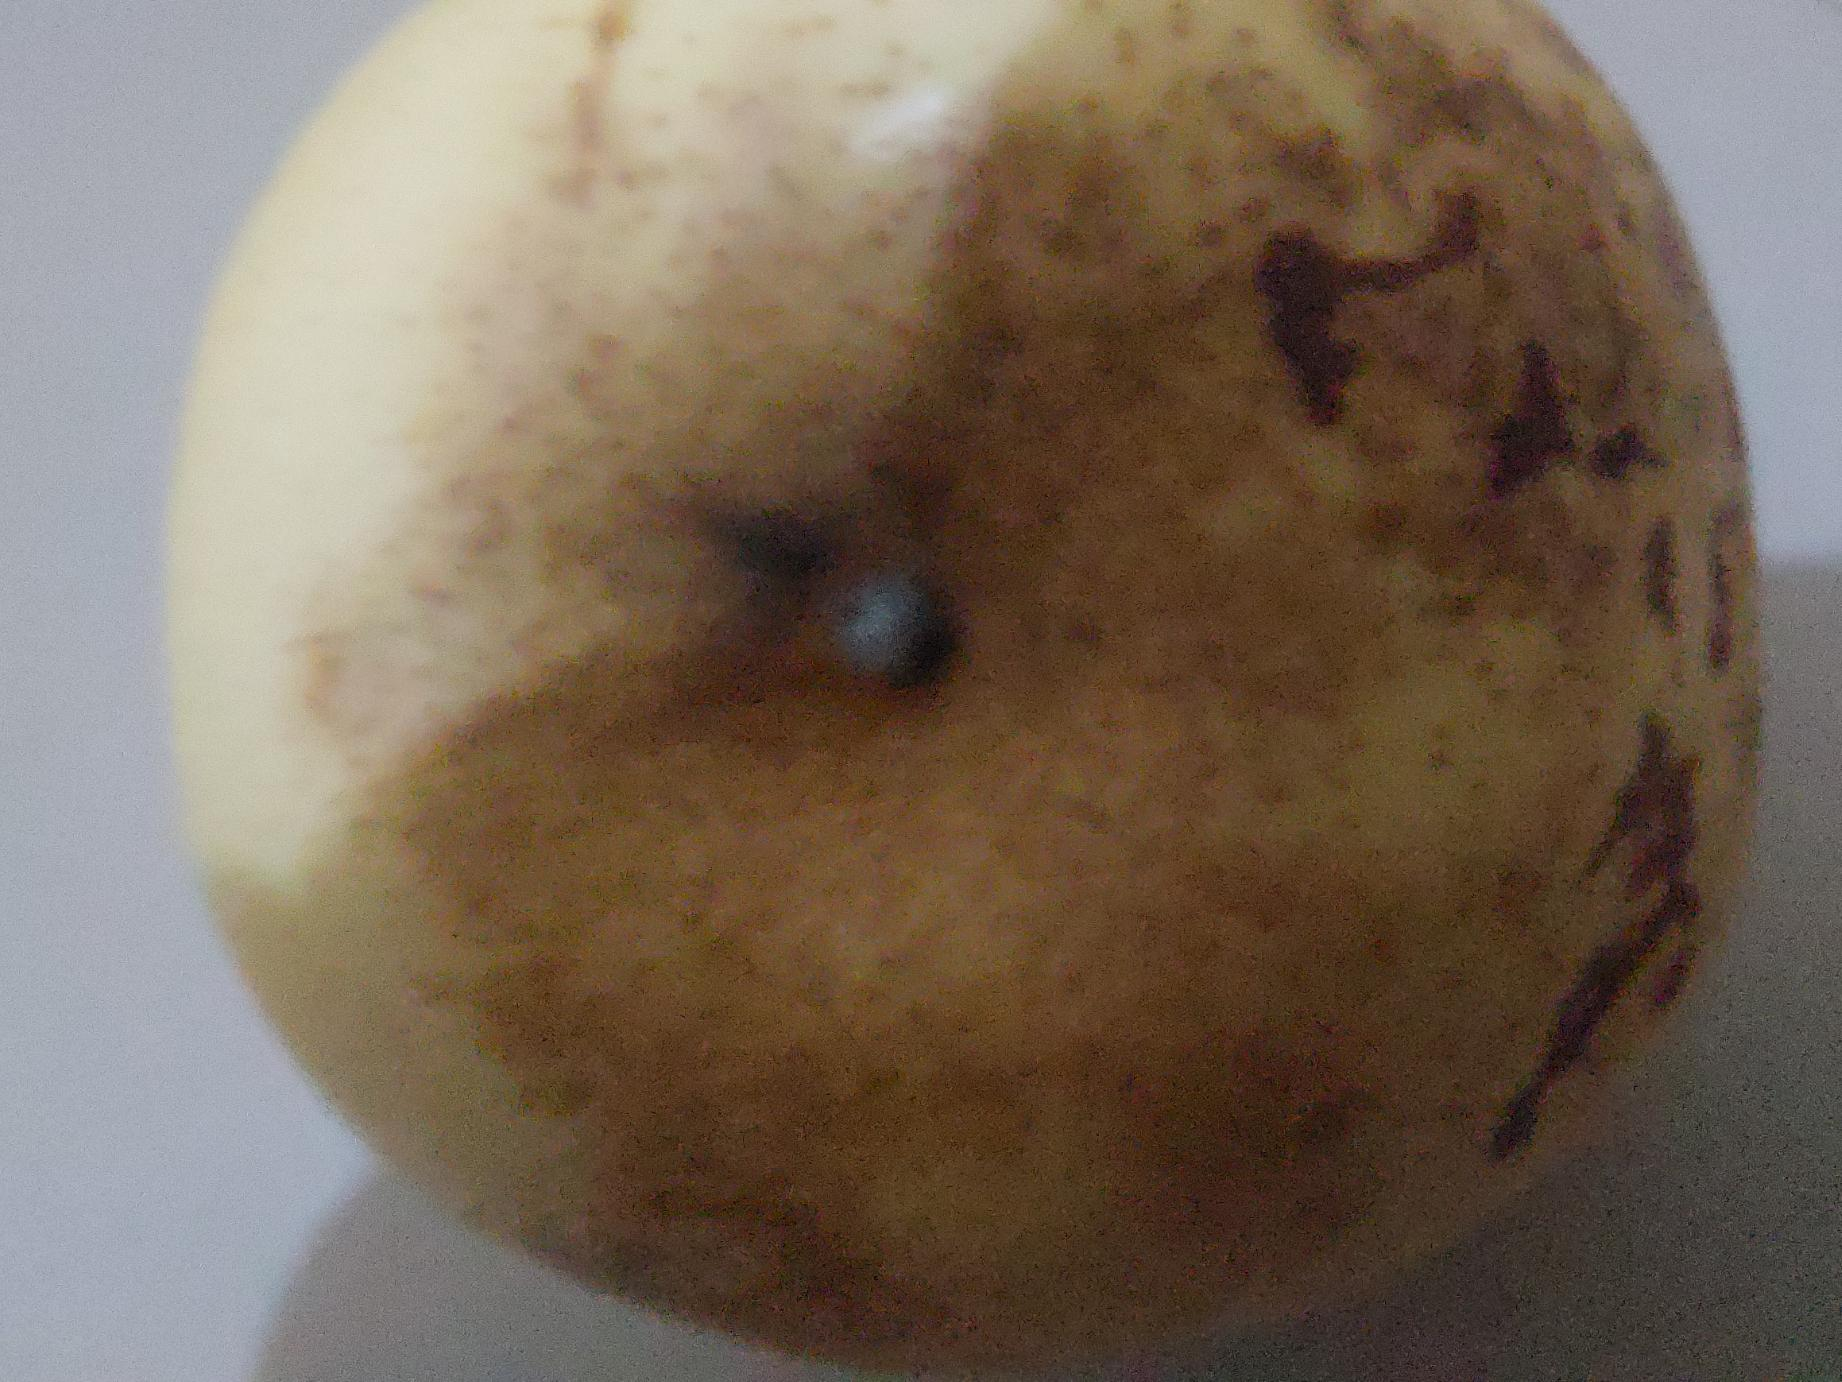Bad Pear: (139, 0, 1787, 1353)
